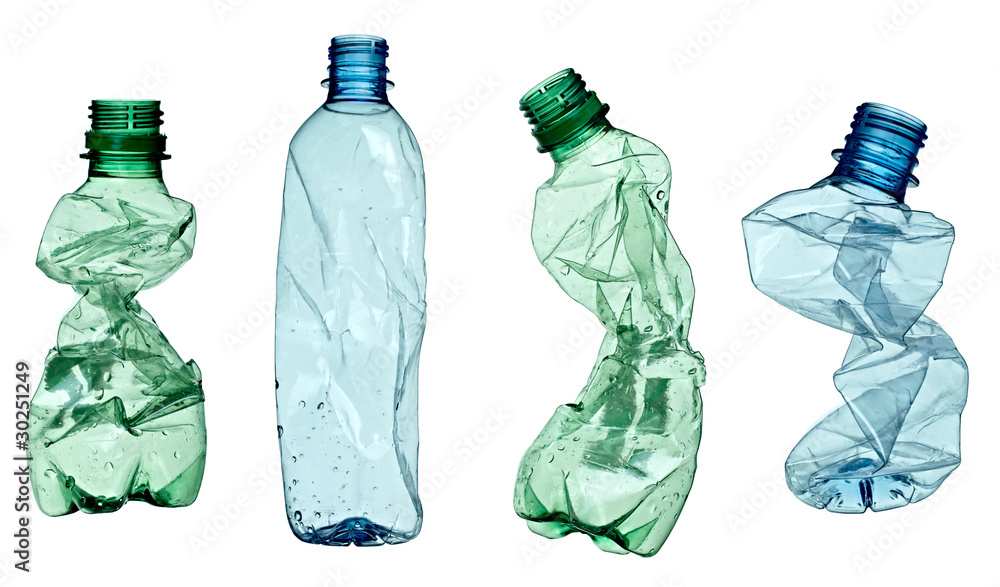plastic_bottle: (513, 62, 710, 560), (739, 98, 971, 513), (274, 33, 427, 548)
